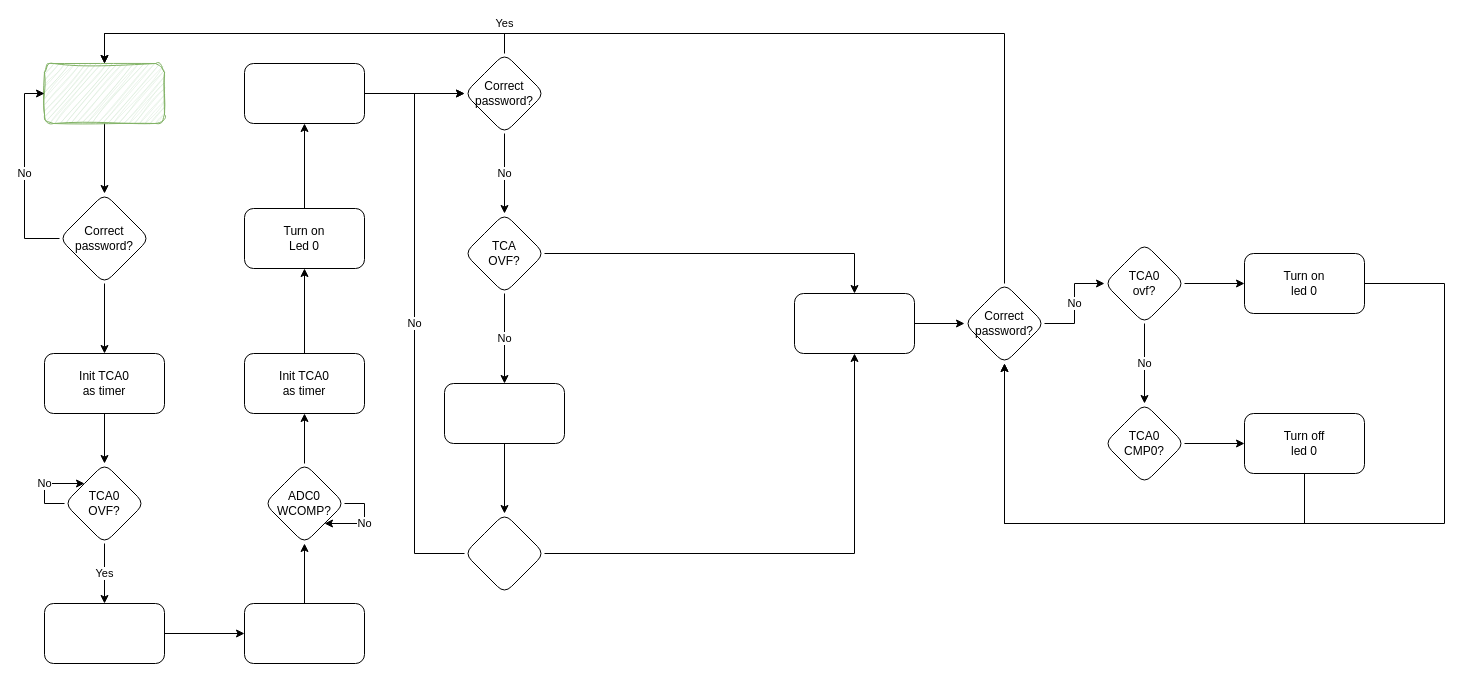
Image size: 1470x681. Some labels were removed from this diagram. Each missing label, with the centre of its shape:
"Disable ADC" belongs at pixel 304 93.
"Disable TCA0" belongs at pixel 104 633.
"Enable TCA0 as pwm" belongs at pixel 854 323.
"False tries ++" belongs at pixel 504 413.
"False tries >= 3?" belongs at pixel 504 553.
"Init ADC" belongs at pixel 304 633.
"Start" belongs at pixel 104 93.
